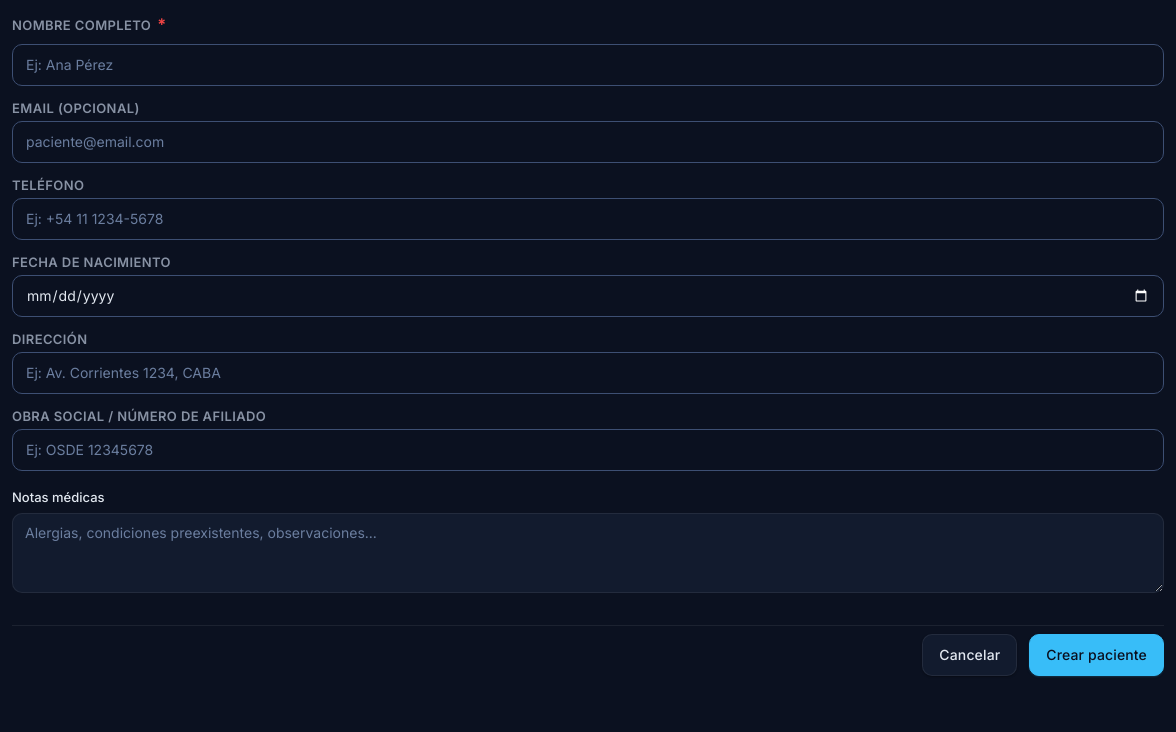
Test: PatientForm › valida el formato del email cuando se completa
Type "Ana Pérez" into the field labelled "Nombre completo" at (588, 65), box x1=12 y1=44 x2=1164 y2=86
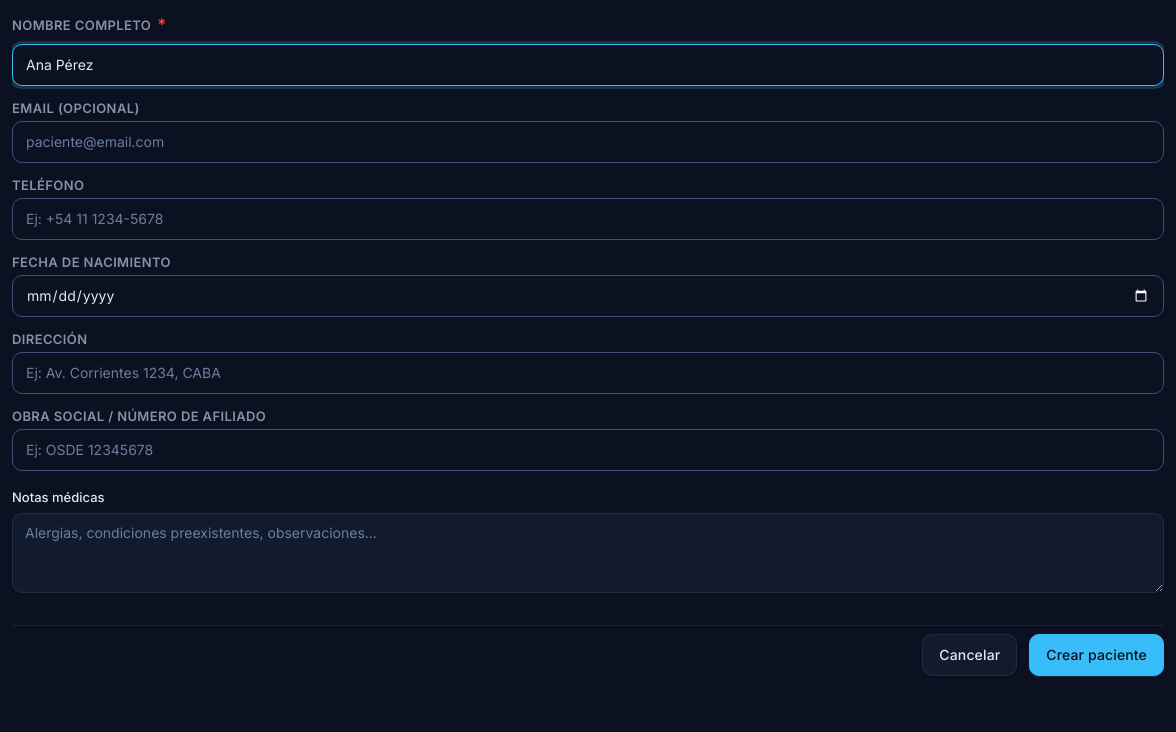
Type "no-es-un-email" into the field labelled "Email (opcional)" at (588, 142), box x1=12 y1=121 x2=1164 y2=163
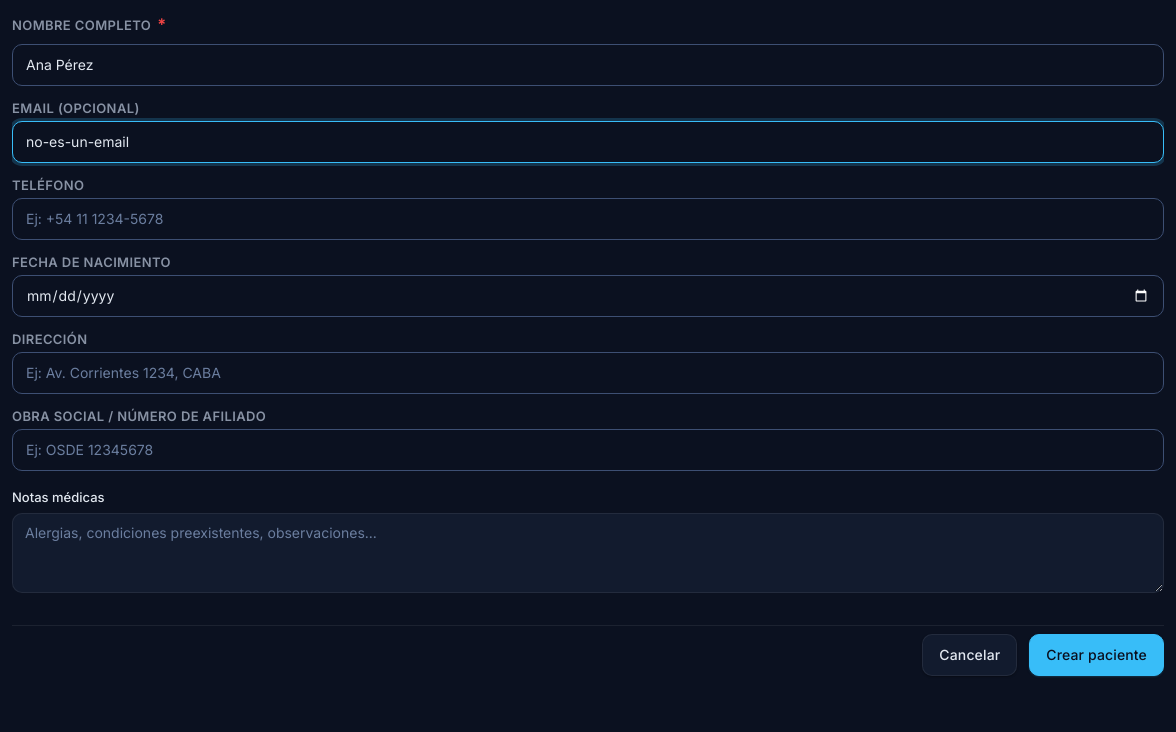
Click the button "Crear paciente" at (1097, 655), box x1=1029 y1=634 x2=1164 y2=676
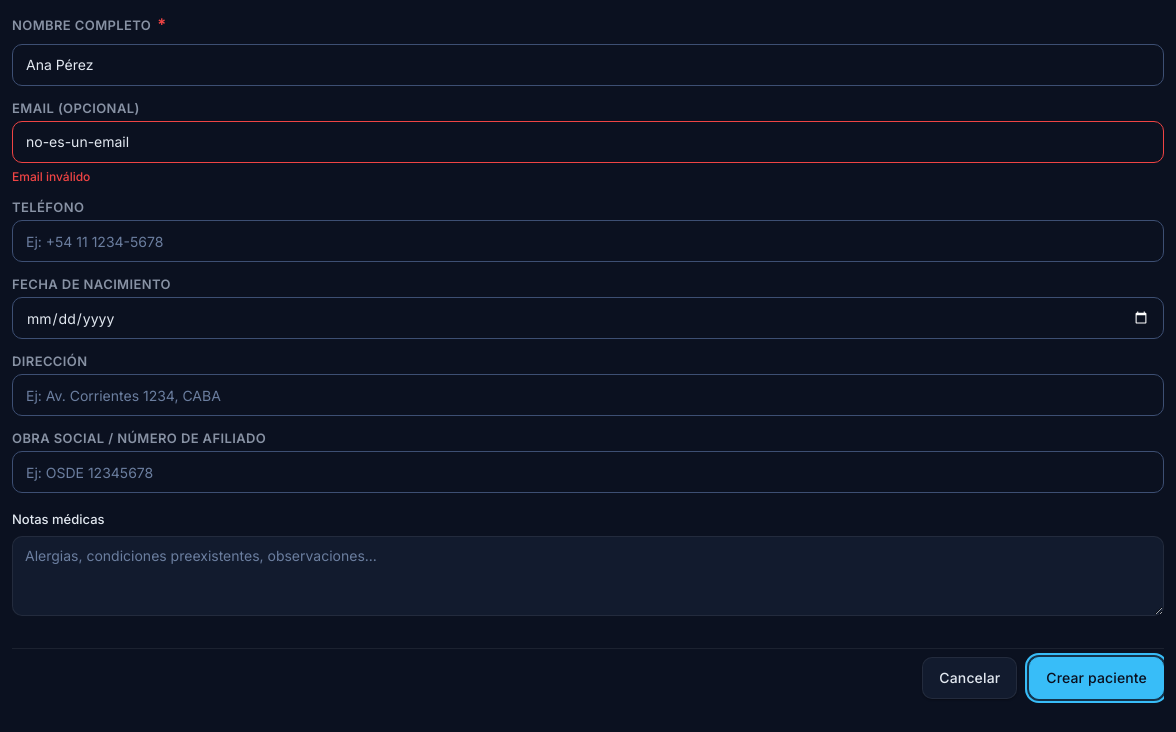
Check: the text "Email inválido" is shown, box x1=12 y1=169 x2=90 y2=184
